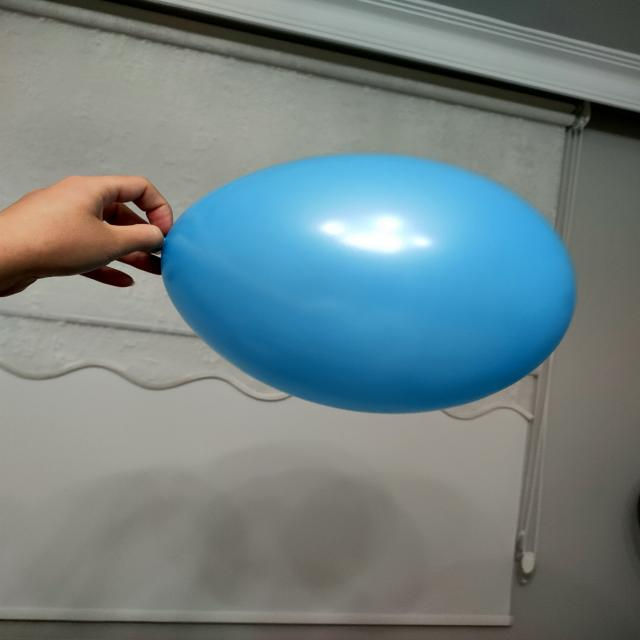blue: (161, 153, 576, 417)
